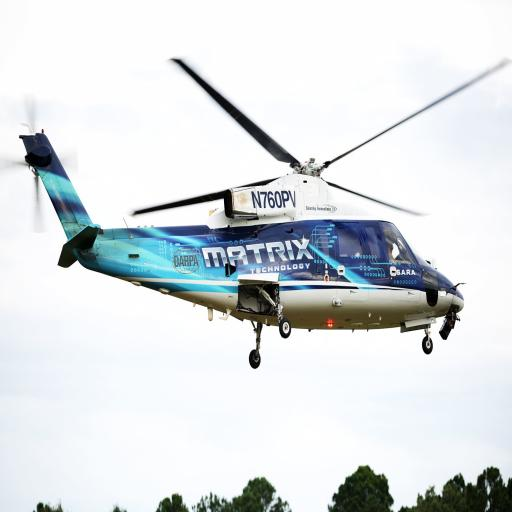helicopter: (15, 56, 512, 370)
